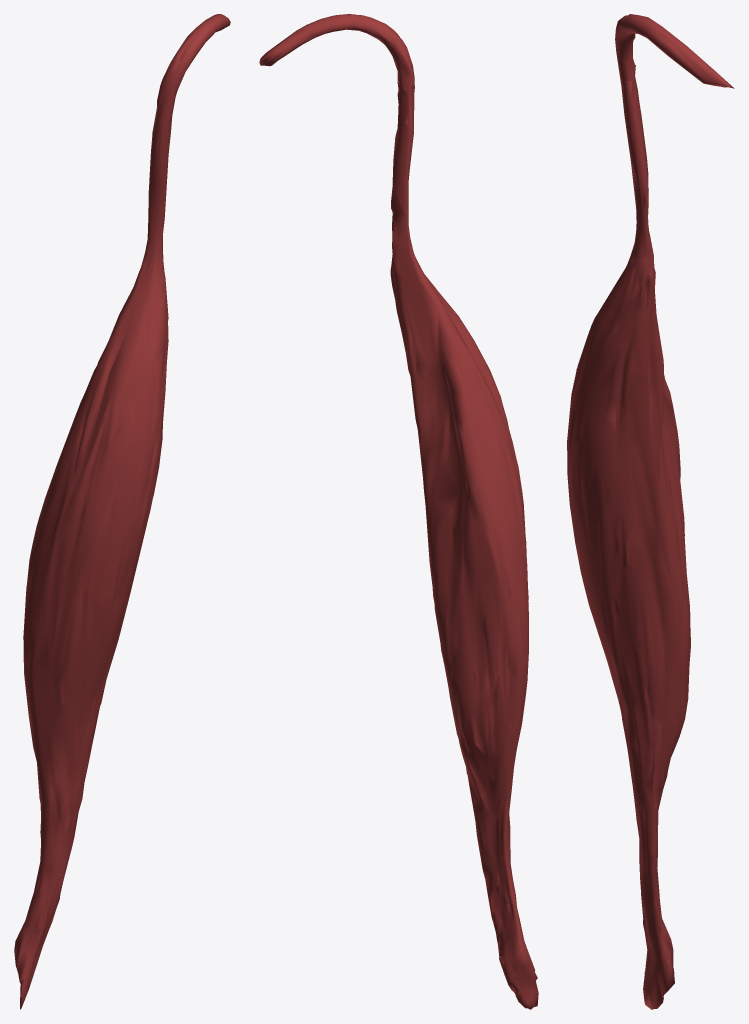
Rendered from long-head-of-biceps-brachii-r.glb.
3 renders of one model, left to right at view 1: azimuth 30°, elevation 25°; view 2: azimuth 150°, elevation 25°; view 3: azimuth 270°, elevation 25°, orthographic. The views are drawn at different scales.
Visible parts, largest first — view 1: Long head of biceps brachii.r; view 2: Long head of biceps brachii.r; view 3: Long head of biceps brachii.r.
Part boxes in pixels (x1,y1,x2,y2): Long head of biceps brachii.r: (14, 14, 230, 1009); Long head of biceps brachii.r: (259, 14, 538, 1009); Long head of biceps brachii.r: (567, 14, 734, 1009).
Bounding box in the file's own units: 0.0952 × 0.3571 × 0.0497.
